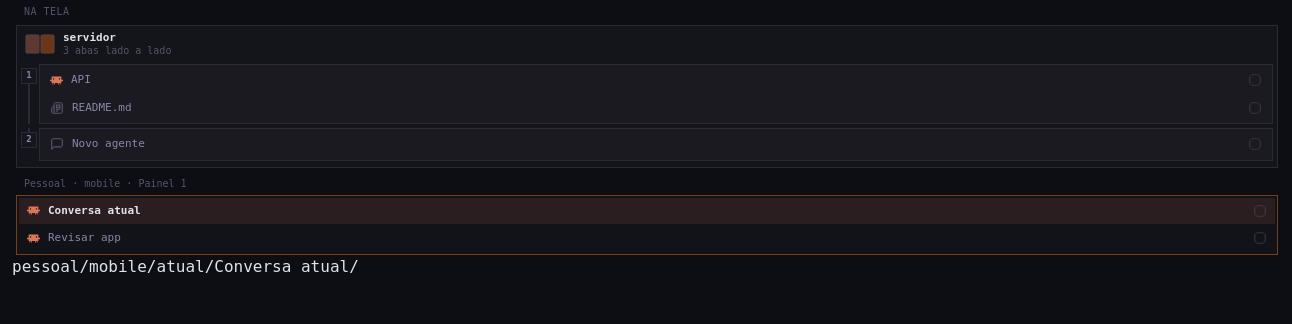
Test: Na tela de todos os workspaces › clicar no Novo agente muda workspace, projeto, painel e aba exatos, revelando o painel maximizado
What coordinates should you click on to do the following:
click the button "Novo agente"
I would click on:
 (108, 144)
Its box is [42, 131, 1270, 158].
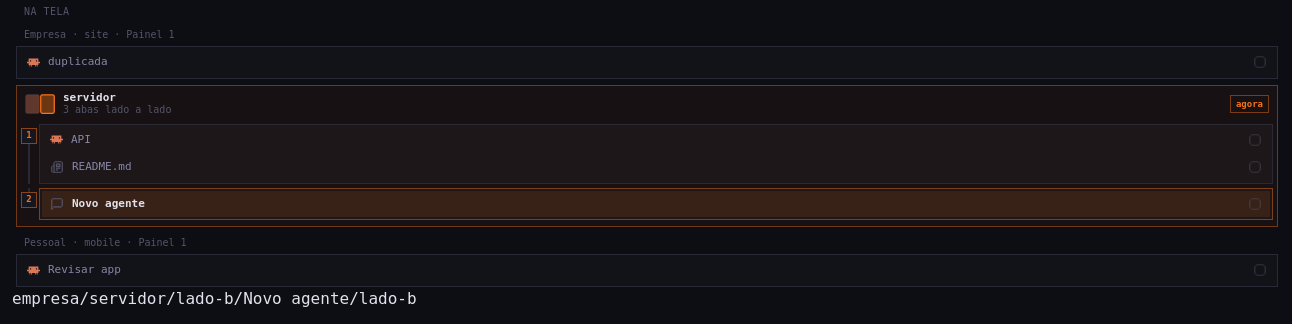
Expected: the text named "Destino selecionado" reads "empresa/servidor/lado-b/Novo agente/lado-b", [12, 289, 417, 308]
What coordinates should you click on to do the following:
click the button "README.md"
I would click on:
 (102, 167)
Its box is [42, 154, 1270, 181].
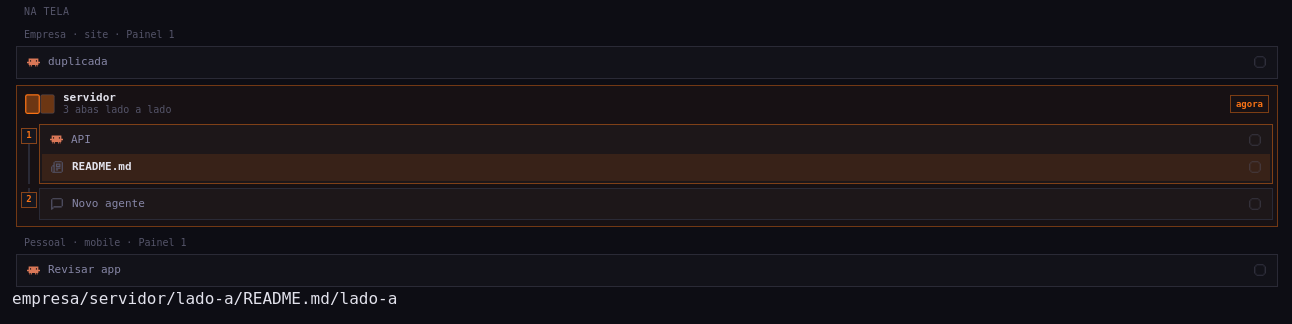
Expected: the text named "Destino selecionado" reads "empresa/servidor/lado-a/README.md/lado-a", [12, 289, 397, 308]
